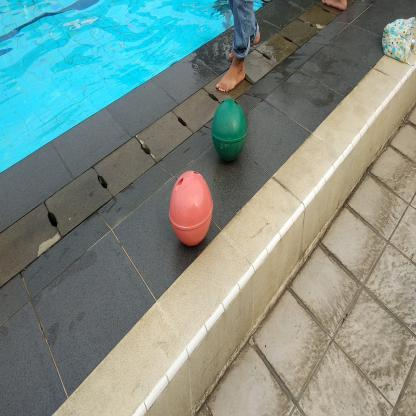green_buoy: (210, 94, 249, 169)
red_buoy: (167, 164, 216, 252)
